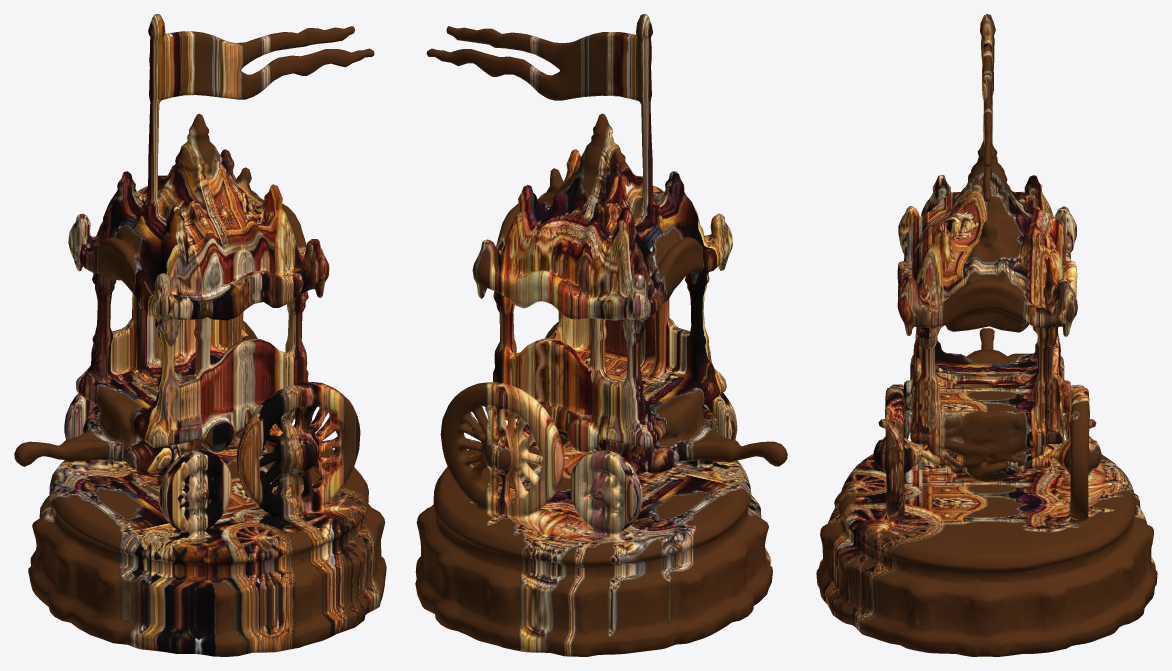
File: war_chariot.glb
The picture shows the model from 3 angles, left to right: view 1: azimuth 30°, elevation 25°; view 2: azimuth 150°, elevation 25°; view 3: azimuth 270°, elevation 25°; orthographic projection. The views are drawn at different scales.
Parts seen in each view (by area): view 1: geometry_0; view 2: geometry_0; view 3: geometry_0.
Boxes of the visible parts, left/top/right/bottom form: geometry_0: left=14, top=14, right=386, bottom=656; geometry_0: left=415, top=14, right=787, bottom=656; geometry_0: left=816, top=14, right=1157, bottom=656.
Bounding box in the file's own units: 1.26 × 1.97 × 1.11.
1 material, 1 textured.
